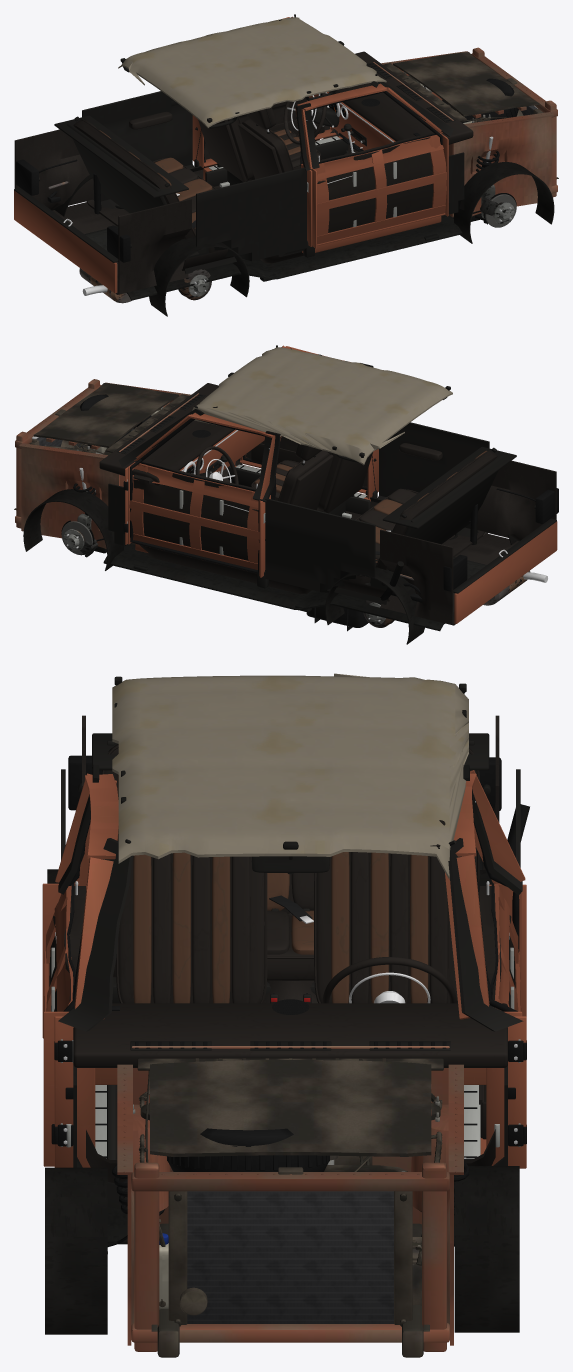
The model's file is jabuti_completo.glb.
3 renders of one model, top to bottom at view 1: azimuth 30°, elevation 25°; view 2: azimuth 150°, elevation 25°; view 3: azimuth 270°, elevation 25°, orthographic. The views are drawn at different scales.
Parts seen in each view (by area): view 1: interior_forro_teto, interior_portamalas_carpete, interior_lateral_traseira_dir, door_card_fr_chapa, engine_paralama_interno_dir, interior_painel, interior_banco_traseiro, interior_lateral_traseira_esq, door_card_fr, under_assoalho, hood_manta, interior_banco_dianteiro_esq (+21 smaller); view 2: interior_forro_teto, interior_portamalas_carpete, interior_lateral_traseira_esq, door_card_fl_chapa, engine_paralama_interno_esq, interior_painel, interior_banco_traseiro, door_card_fl, under_assoalho, interior_lateral_traseira_dir, hood_manta, interior_carpete (+20 smaller); view 3: interior_forro_teto, engine_radiador, hood_manta, interior_painel, interior_banco_dianteiro_dir, engine_travessa, interior_banco_dianteiro_esq, under_caixa_roda_fl, under_caixa_roda_fr, interior_acabamento_colunas, jamb_fl_colunas, jamb_fr_colunas (+22 smaller).
Boxes of the visible parts, left/top/right/bottom form: interior_forro_teto: left=118, top=17, right=386, bottom=128; interior_portamalas_carpete: left=14, top=129, right=191, bottom=294; interior_lateral_traseira_dir: left=184, top=167, right=306, bottom=261; door_card_fr_chapa: left=311, top=134, right=448, bottom=248; engine_paralama_interno_dir: left=451, top=112, right=553, bottom=216; interior_painel: left=307, top=51, right=473, bottom=152; interior_banco_traseiro: left=67, top=116, right=220, bottom=252; interior_lateral_traseira_esq: left=82, top=91, right=200, bottom=208; door_card_fr: left=317, top=132, right=435, bottom=232; under_assoalho: left=84, top=215, right=462, bottom=300; hood_manta: left=393, top=52, right=539, bottom=118; interior_banco_dianteiro_esq: left=198, top=116, right=321, bottom=188; interior_forro_teto: left=192, top=347, right=452, bottom=465; interior_portamalas_carpete: left=380, top=460, right=557, bottom=625; interior_lateral_traseira_esq: left=265, top=498, right=387, bottom=592; door_card_fl_chapa: left=128, top=462, right=260, bottom=576; engine_paralama_interno_esq: left=18, top=443, right=119, bottom=548; interior_painel: left=99, top=383, right=264, bottom=485; interior_banco_traseiro: left=349, top=447, right=504, bottom=585; door_card_fl: left=133, top=460, right=258, bottom=560; under_assoalho: left=103, top=544, right=486, bottom=631; interior_lateral_traseira_dir: left=377, top=422, right=489, bottom=537; hood_manta: left=33, top=383, right=179, bottom=449; interior_carpete: left=140, top=460, right=484, bottom=604; interior_forro_teto: left=112, top=673, right=468, bottom=879; engine_radiador: left=168, top=1171, right=412, bottom=1326; hood_manta: left=150, top=1060, right=431, bottom=1156; interior_painel: left=73, top=999, right=507, bottom=1084; interior_banco_dianteiro_dir: left=116, top=852, right=278, bottom=1003; engine_travessa: left=131, top=1156, right=449, bottom=1351; interior_banco_dianteiro_esq: left=303, top=852, right=457, bottom=1003; under_caixa_roda_fl: left=454, top=1166, right=519, bottom=1332; under_caixa_roda_fr: left=45, top=1167, right=107, bottom=1334; interior_acabamento_colunas: left=58, top=764, right=523, bottom=1031; jamb_fl_colunas: left=445, top=770, right=526, bottom=1168; jamb_fr_colunas: left=54, top=773, right=118, bottom=1167.
Size of what is drawn, in the model's own units: 3.47 by 1.39 by 1.57.
Materials: 52 (52 with a texture image).
